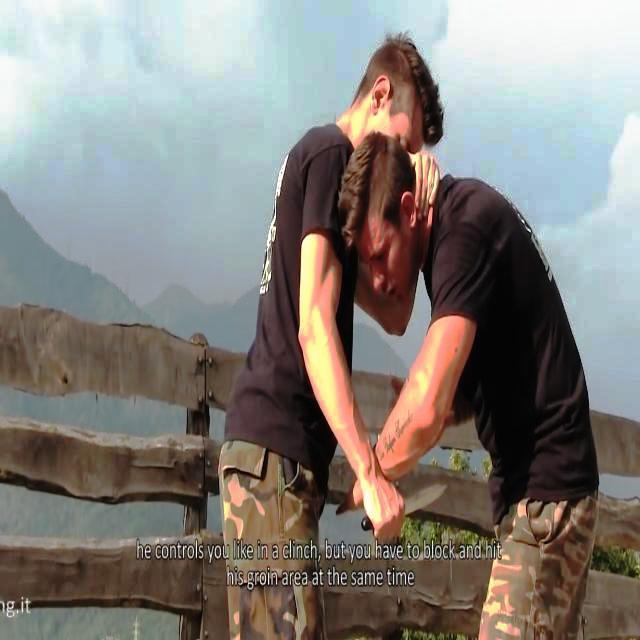Knife: (397, 473, 461, 512)
